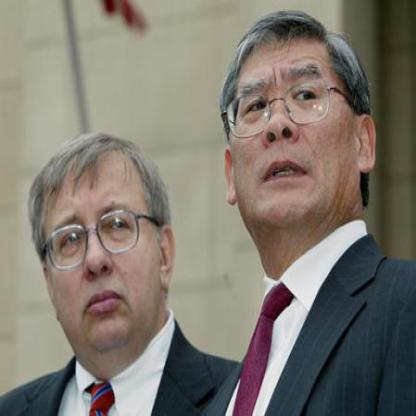face: (218, 13, 360, 234), (39, 138, 162, 352)
